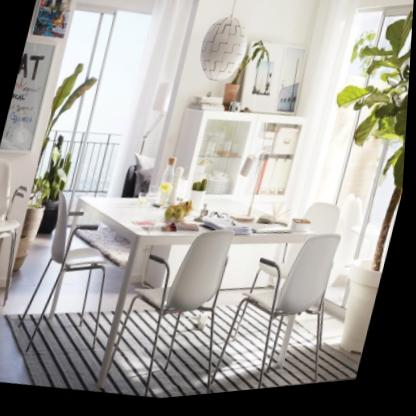Chair: (209, 219, 362, 399), (14, 183, 136, 369)
